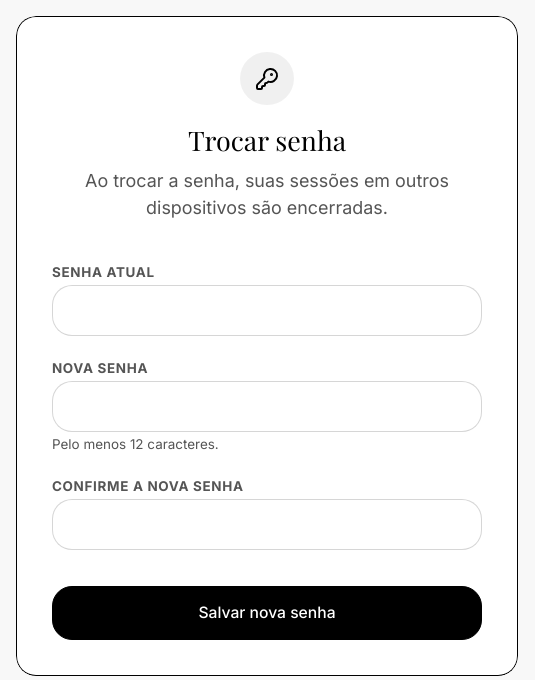
Test case: ChangePasswordForm › erro {"ok":false,"reason":"unavailable"}: mensagem própria e campos limpos
The image size is (535, 680).
Type "atual-errada-x" into the password field labelled "Senha atual".
click(267, 310); type("atual-errada-x")  # box [52,285,482,336]
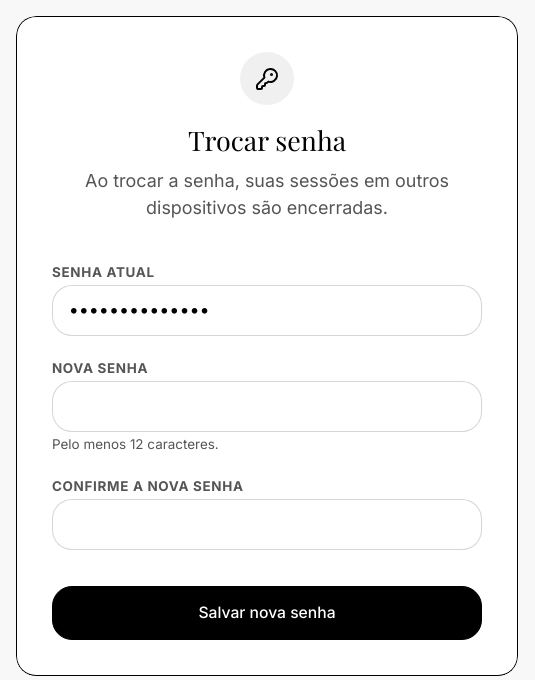
Type "nova-senha-longa-y" into the password field labelled "Nova senha".
click(267, 406); type("nova-senha-longa-y")  # box [52,381,482,432]
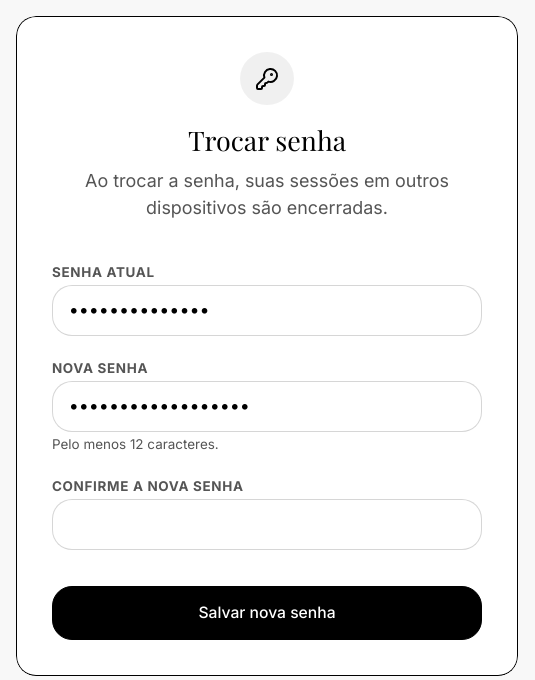
Type "nova-senha-longa-y" into the password field labelled "Confirme a nova senha".
click(267, 525); type("nova-senha-longa-y")  # box [52,499,482,550]
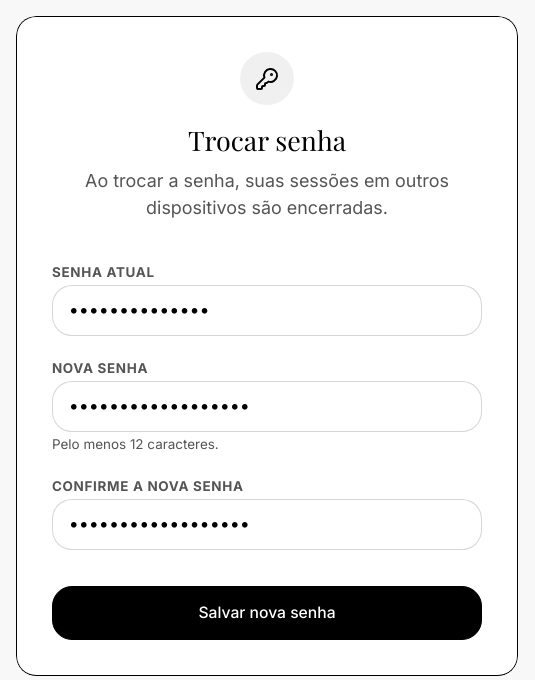
Click the button "Salvar nova senha".
click(267, 613)  # box [52,586,482,640]
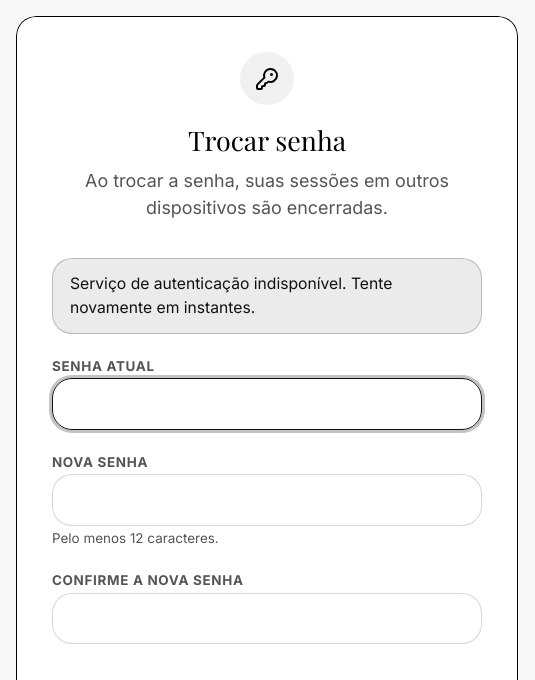
Check: the message shows "indisponível", box [70,274,392,317]
Check: the password field labelled "Senha atual" is empty, box [52,378,482,430]
Check: the password field labelled "Nova senha" is empty, box [52,474,482,526]
